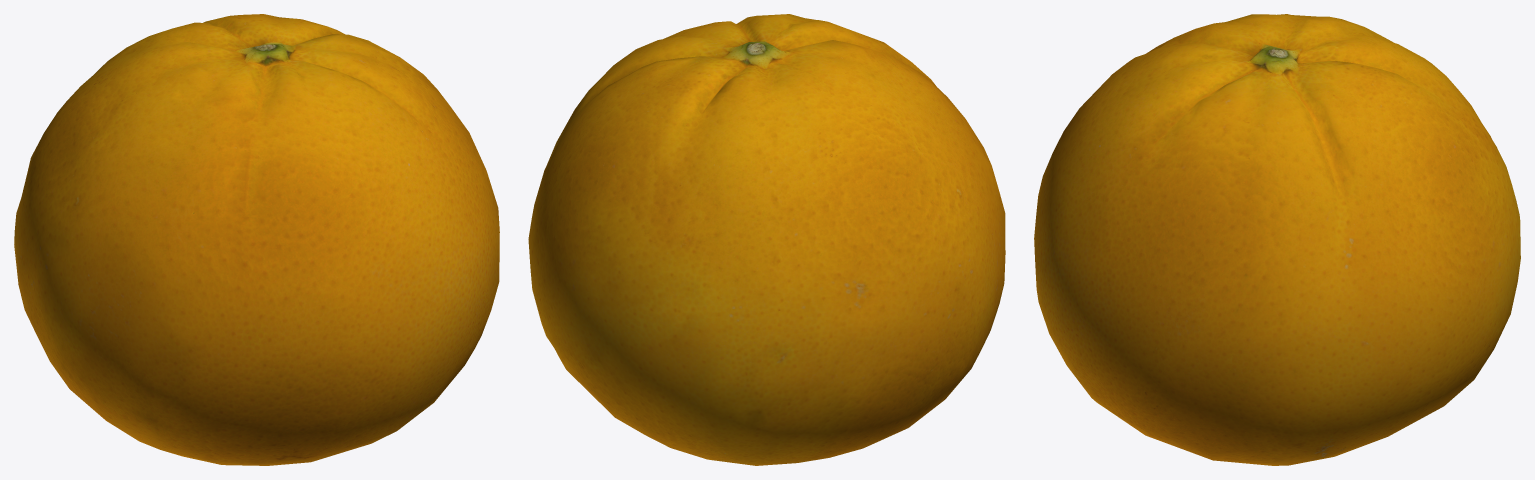
File: cara_cara.glb
3 views of the same model, side by side, from view 1: azimuth 30°, elevation 25°; view 2: azimuth 150°, elevation 25°; view 3: azimuth 270°, elevation 25° (orthographic).
Parts seen in each view (by area): view 1: Object_2; view 2: Object_2; view 3: Object_2.
Part boxes in pixels (box(x1,y1,x2,y2)): Object_2: box(14, 14, 499, 465); Object_2: box(528, 14, 1005, 465); Object_2: box(1034, 14, 1520, 465).
Size of the model in its own units: 0.0864 by 0.0758 by 0.0866.
Materials: 1 (1 with a texture image).
